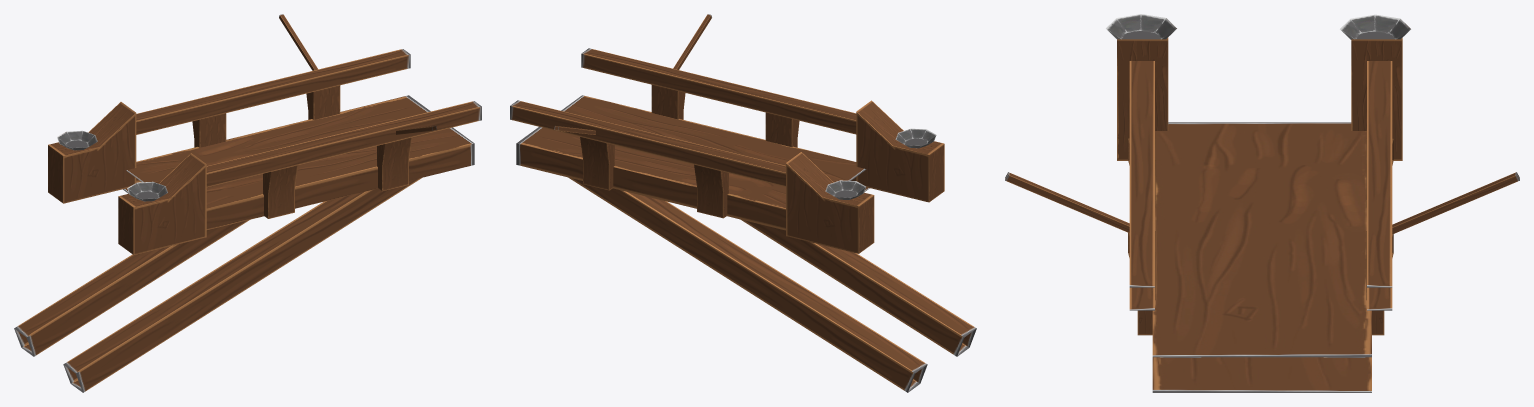
Rendered from brug_start.FBX.
3 renders of one model, left to right at view 1: azimuth 30°, elevation 25°; view 2: azimuth 150°, elevation 25°; view 3: azimuth 270°, elevation 25°, orthographic. The views are drawn at different scales.
Parts seen in each view (by area): view 1: Box096, Box413, Box412, Box407, Box097, Box372, Box408, Box373, Box404, Box405, Box406, Box397 (+2 smaller); view 2: Box096, Box412, Box413, Box372, Box408, Box407, Box097, Box405, Box406, Box373, Box404, Box397 (+2 smaller); view 3: Box096, Box372, Box407, Box097, Box408, Box397, Box409, Box411, Box410, Box404, Box406.
Part boxes in pixels (<box>): Box096: <box>123,95,474,229</box>; Box413: <box>63,178,421,392</box>; Box412: <box>14,220,249,356</box>; Box407: <box>136,49,410,134</box>; Box097: <box>118,153,206,254</box>; Box372: <box>206,101,481,187</box>; Box408: <box>48,102,136,203</box>; Box373: <box>263,165,297,218</box>; Box404: <box>377,137,411,191</box>; Box405: <box>192,113,226,147</box>; Box406: <box>306,85,340,119</box>; Box397: <box>127,181,167,201</box>; Box096: <box>516,95,869,230</box>; Box412: <box>568,177,927,392</box>; Box413: <box>741,219,976,356</box>; Box372: <box>581,48,856,134</box>; Box408: <box>786,152,874,253</box>; Box407: <box>510,100,785,186</box>; Box097: <box>856,100,944,202</box>; Box405: <box>694,164,728,218</box>; Box406: <box>580,137,614,190</box>; Box373: <box>765,112,799,147</box>; Box404: <box>651,84,685,119</box>; Box397: <box>895,128,936,148</box>; Box096: <box>1152,122,1371,392</box>; Box372: <box>1129,61,1154,310</box>; Box407: <box>1367,61,1392,310</box>; Box097: <box>1117,37,1168,160</box>; Box408: <box>1351,38,1402,160</box>; Box397: <box>1106,14,1176,39</box>; Box409: <box>1340,14,1410,39</box>; Box411: <box>1392,172,1519,234</box>; Box410: <box>1005,172,1129,232</box>; Box404: <box>1128,231,1155,335</box>; Box406: <box>1366,231,1393,335</box>.
Size of the model in its own units: 191 by 103 by 128.
